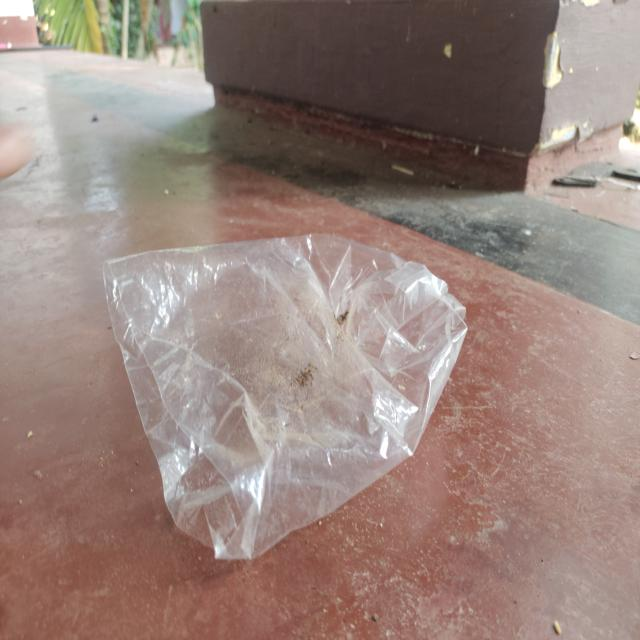plastic: (99, 229, 472, 565)
